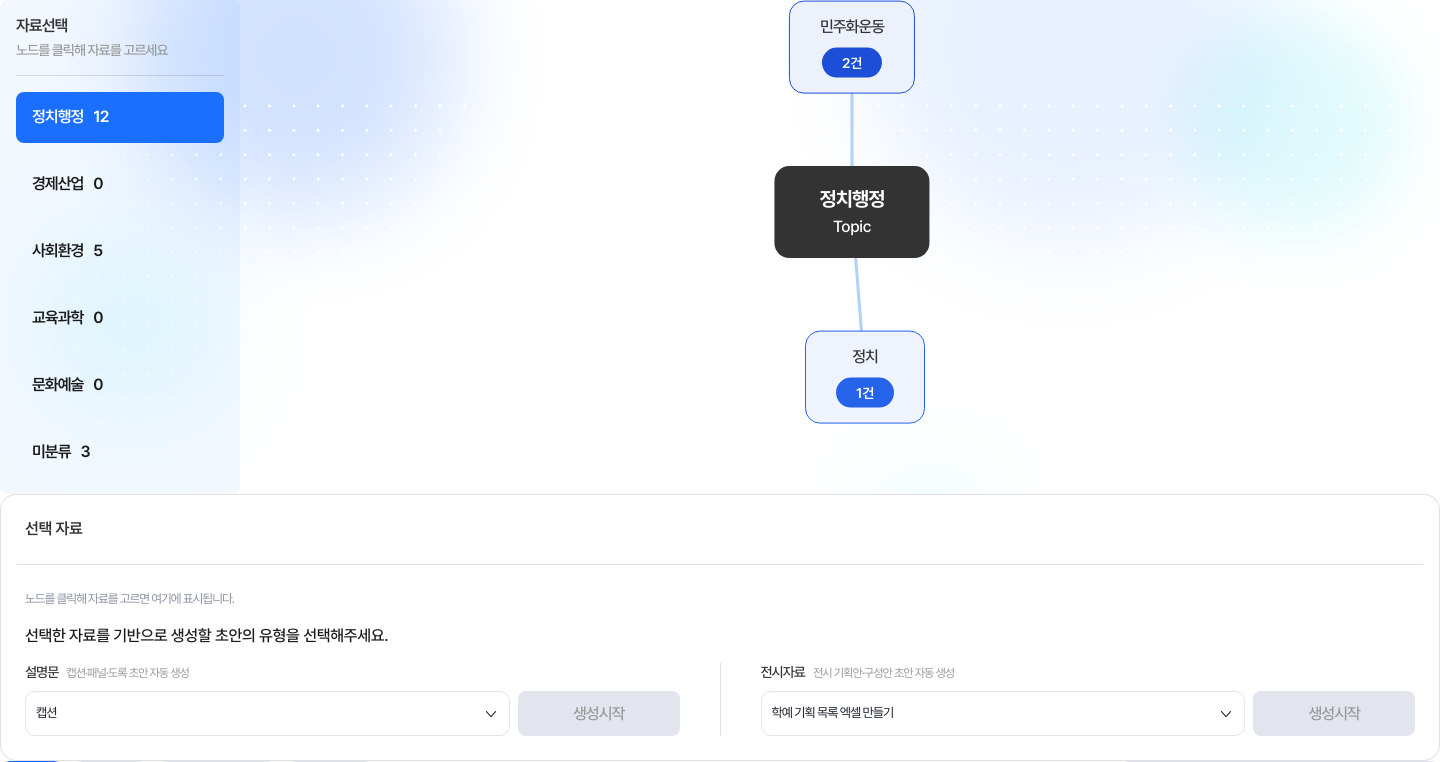
Scenario: 선택 → 생성 › 생성에 성공하면 완료 모달이 뜬다
Click the button "민주화운동 2건" at coordinates (852, 47), box [789, 1, 915, 93]
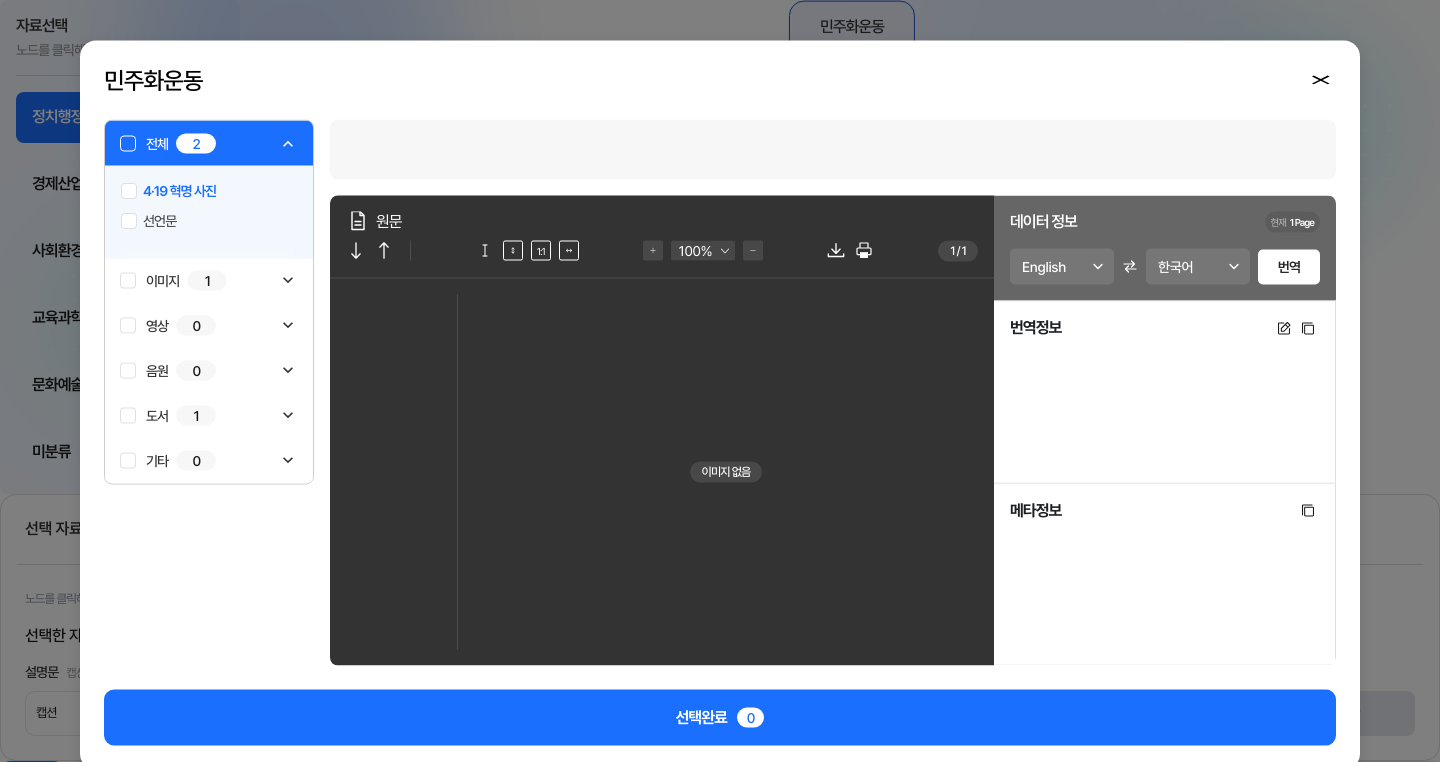
Click the checkbox named "전체 전체 선택" at coordinates (128, 143), box [120, 135, 136, 151]
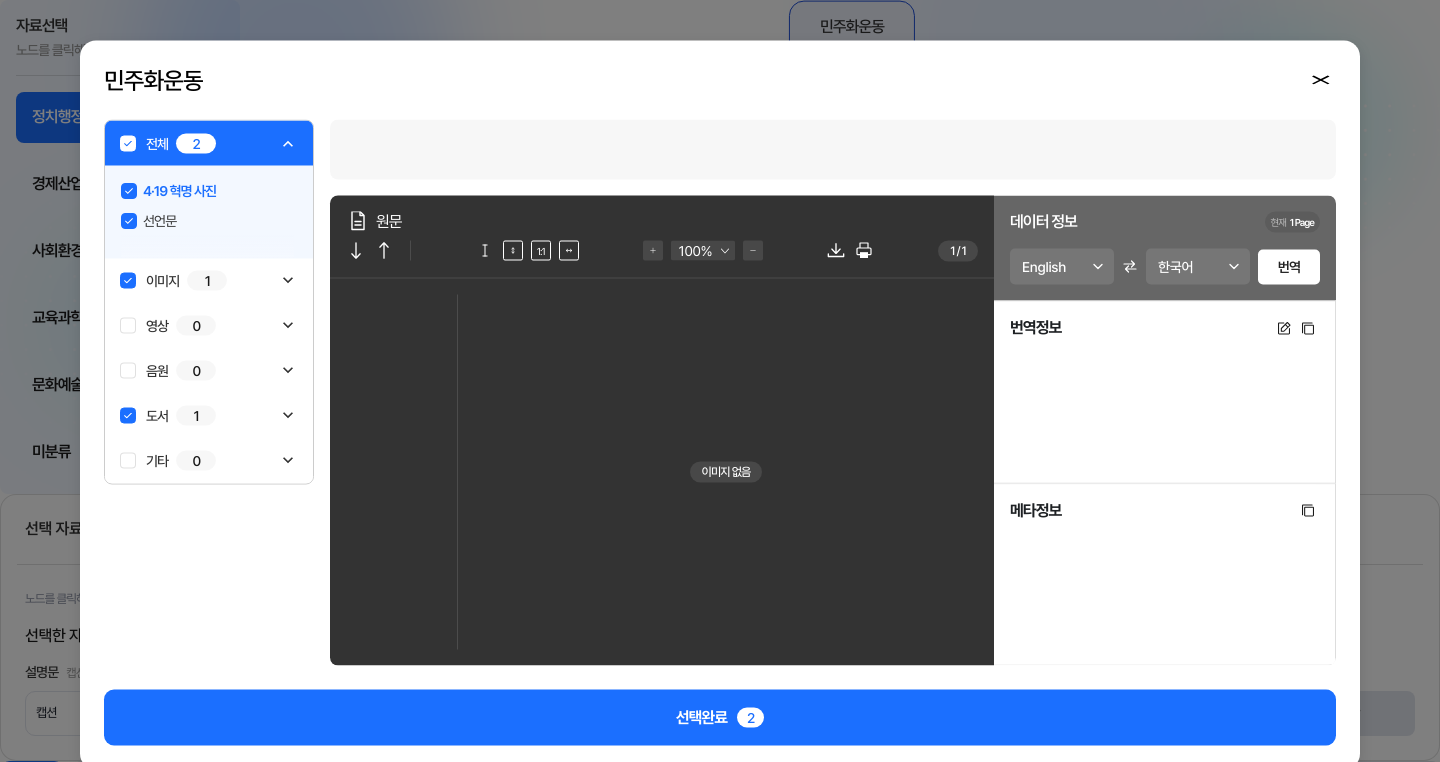
Click the button "선택완료 2" at coordinates (720, 718), box [104, 690, 1336, 746]
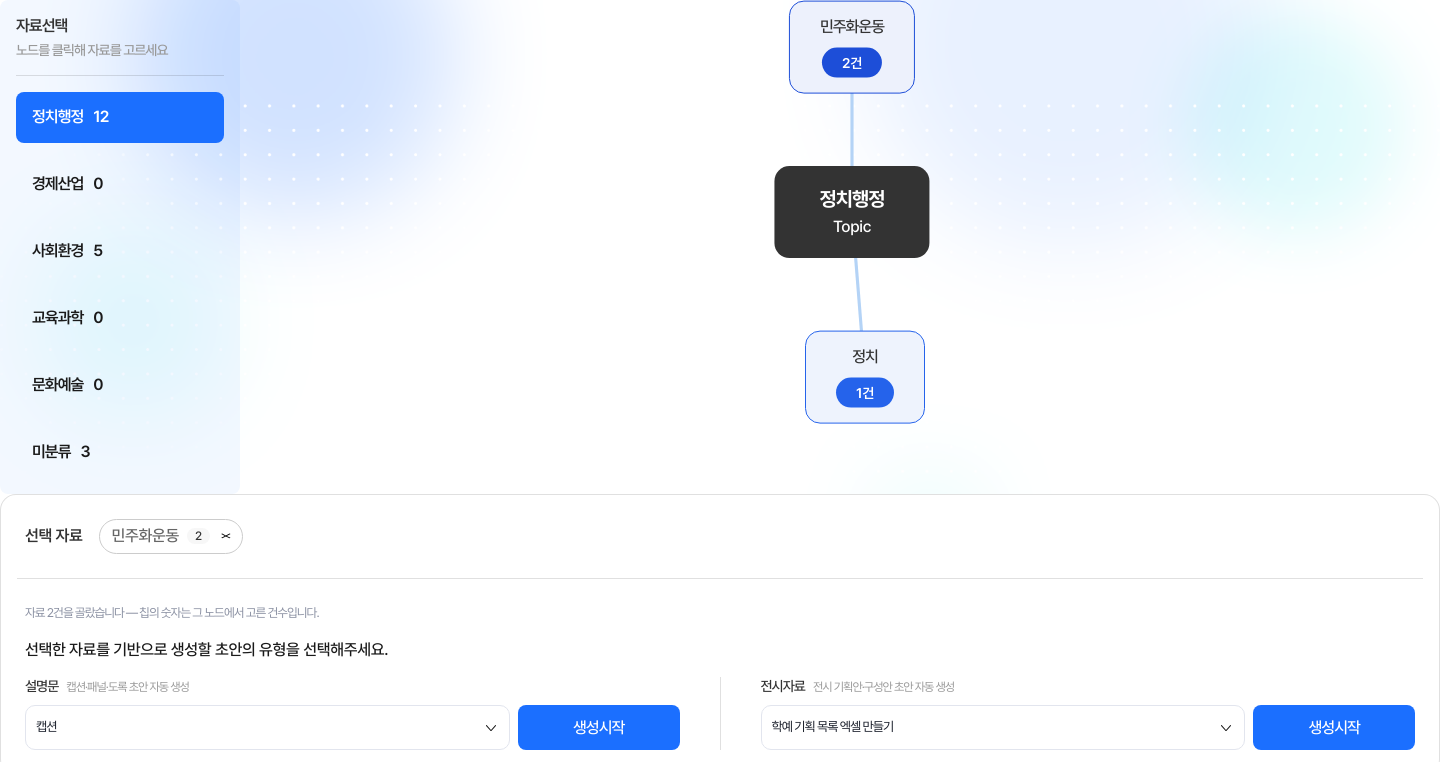
Click the 2nd button "생성시작" at coordinates (1334, 728), box [1253, 705, 1415, 750]
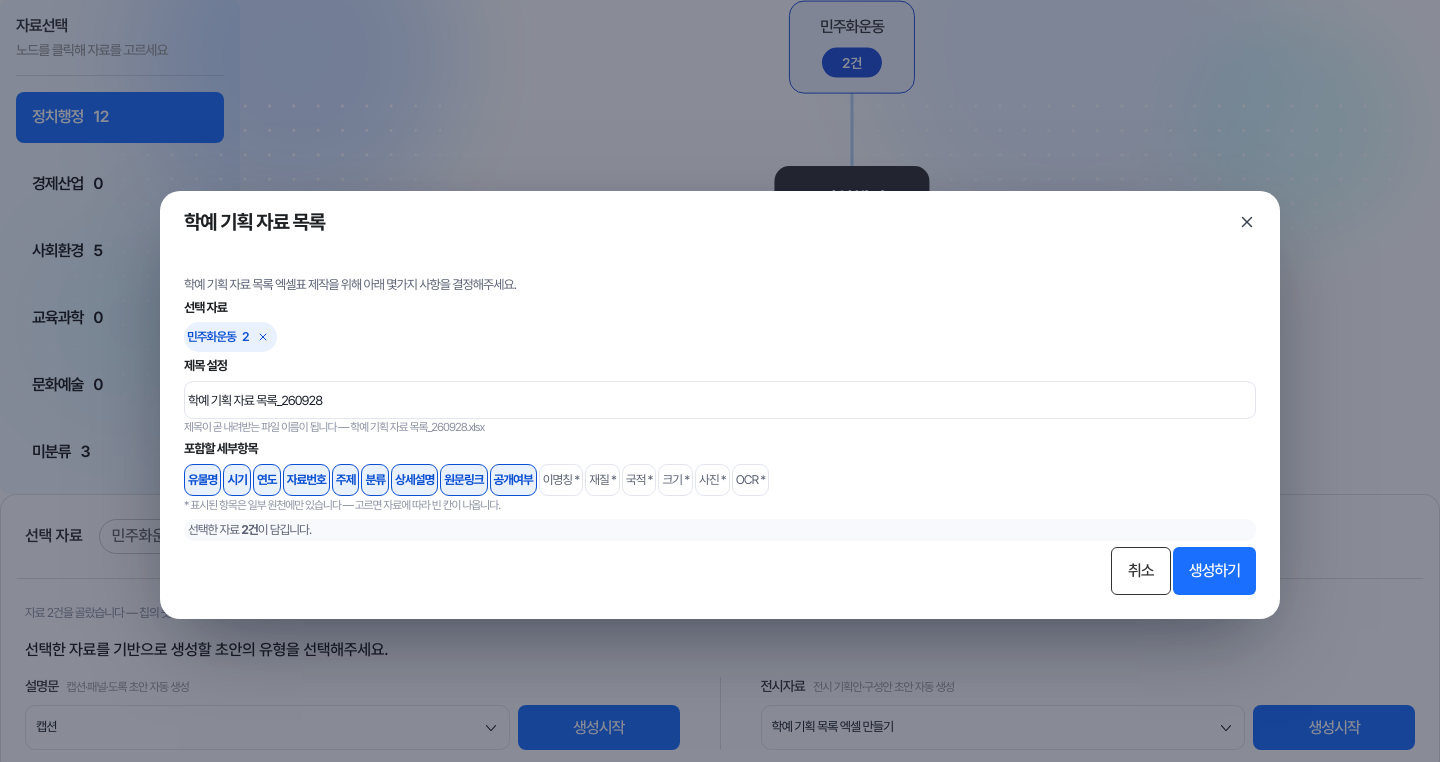
Click the button "생성하기" at coordinates (1214, 571), box [1173, 547, 1256, 595]
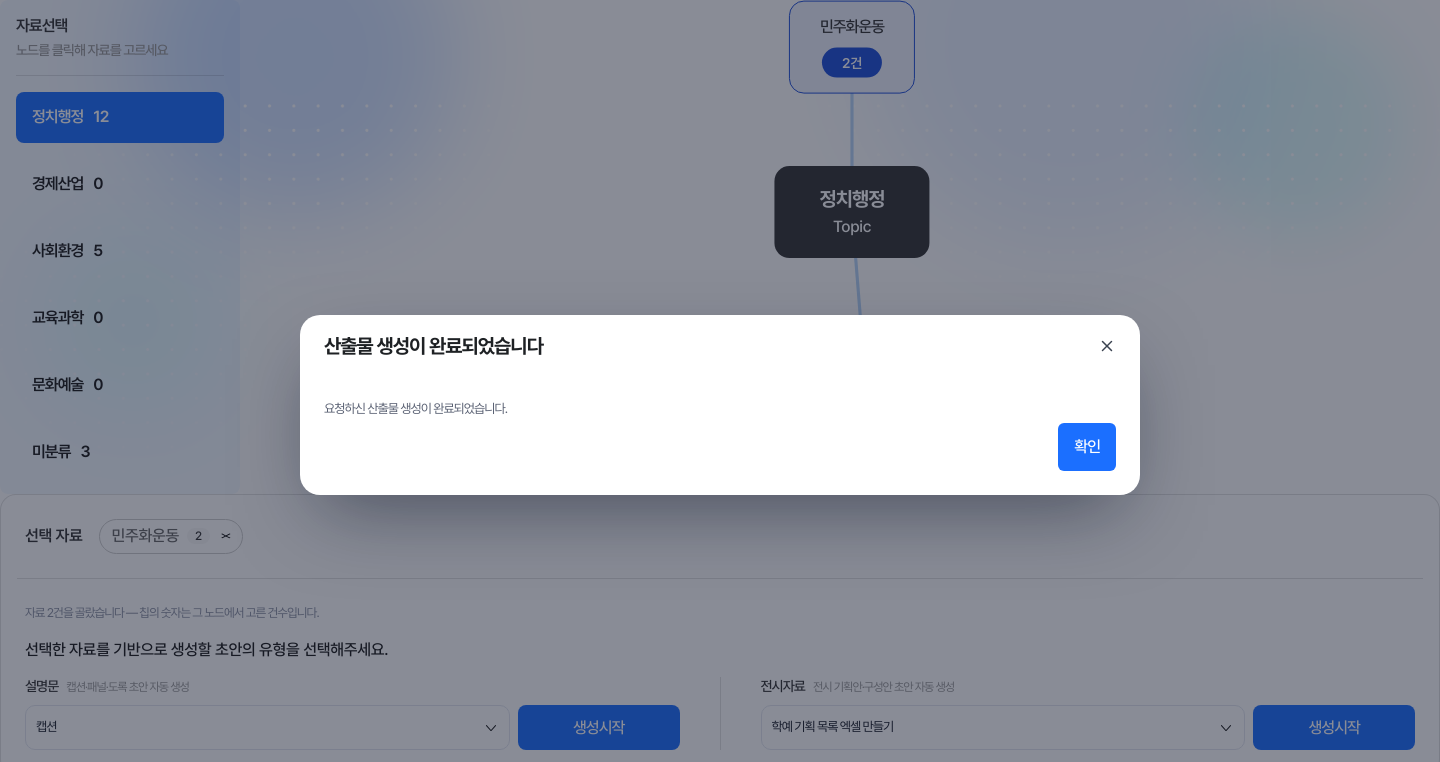
expect the heading "산출물 생성이 완료되었습니다" is shown: met, box [324, 331, 543, 361]
